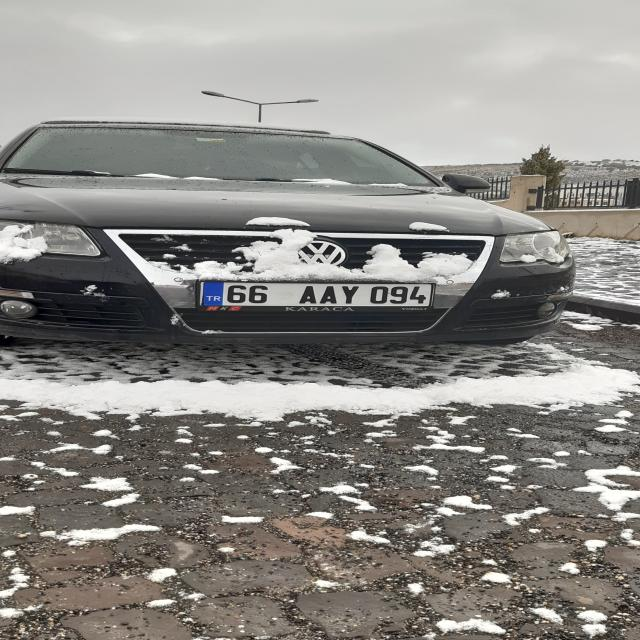license_plate: (197, 282, 434, 307)
